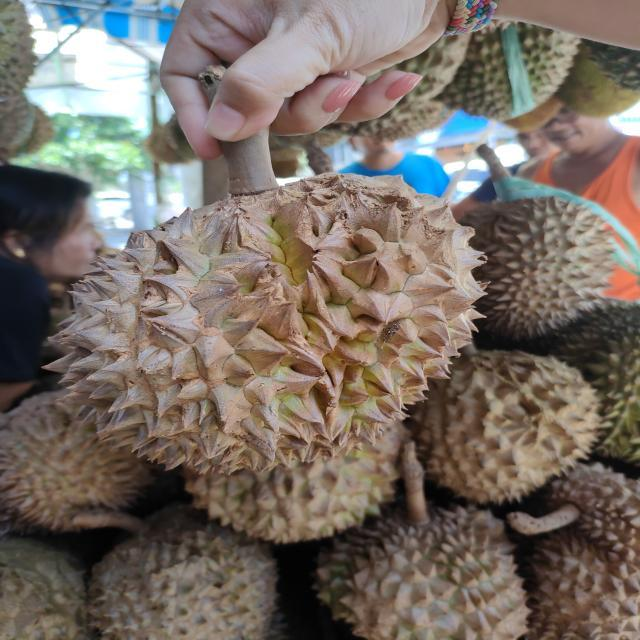mature: (46, 173, 489, 481), (414, 353, 602, 517), (0, 392, 161, 537), (459, 195, 611, 344)
